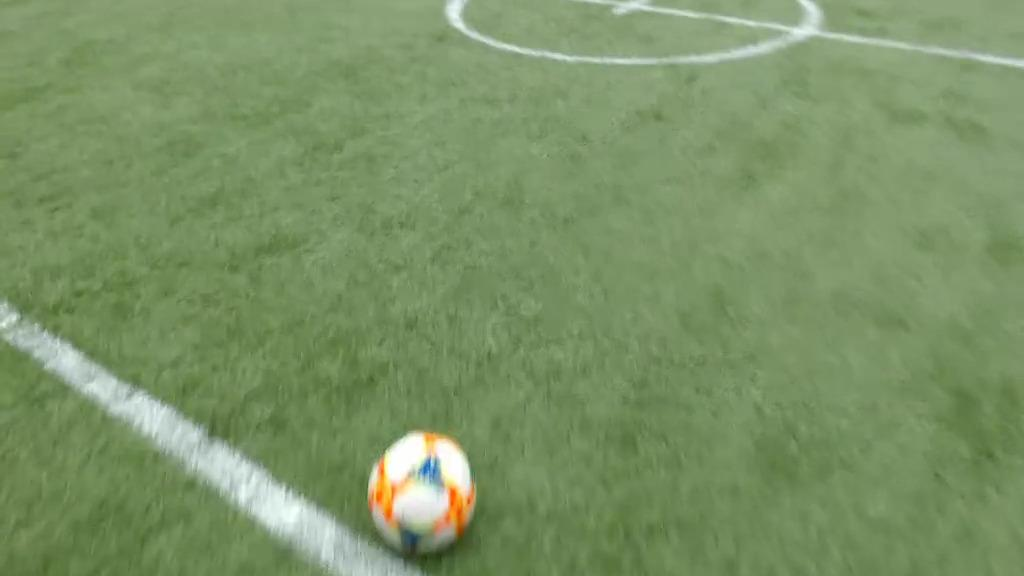ball: (368, 429, 473, 557)
